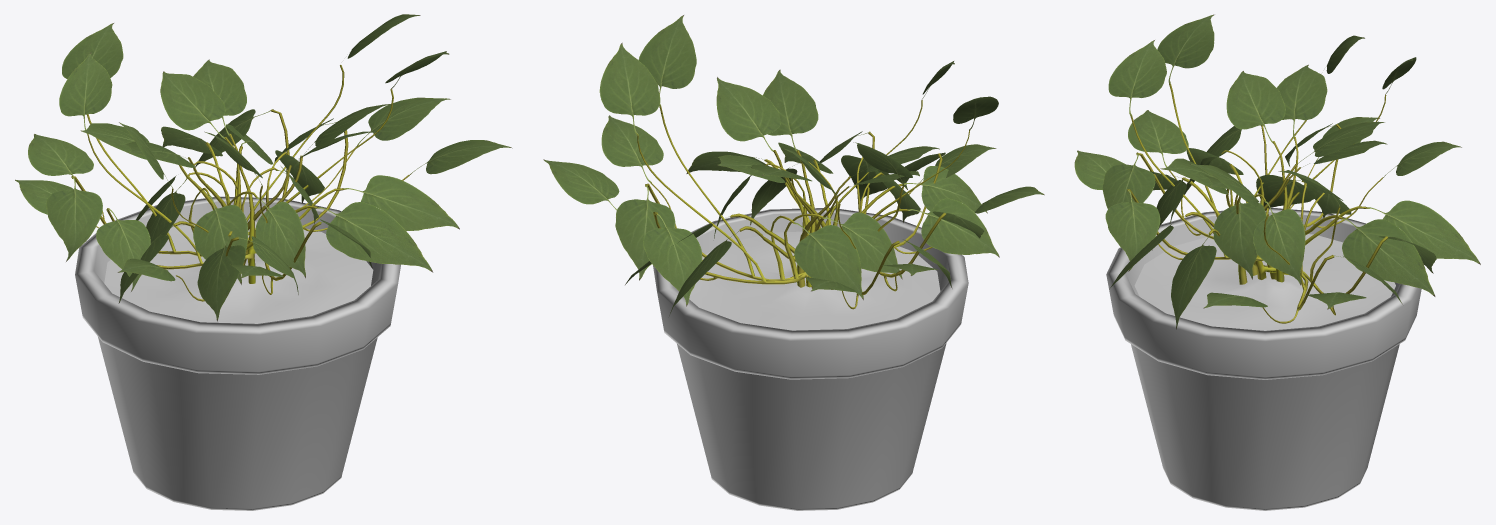
File: table_plant.fbx
3 views of the same model, side by side, from view 1: azimuth 30°, elevation 25°; view 2: azimuth 150°, elevation 25°; view 3: azimuth 270°, elevation 25° (orthographic). The views are drawn at different scales.
Parts seen in each view (by area): view 1: pCylinder1, pCube5, pCube3, pCylinder2, pCube1, pCube6, pCube2, pCube4; view 2: pCylinder1, pCube6, pCube1, pCylinder2, pCube3, pCube4, pCube2, pCube5; view 3: pCylinder1, pCube2, pCube4, pCylinder2, pCube3, pCube6, pCube5, pCube1.
Part boxes in pixels (x1,y1,x2,y2): pCylinder1: (75, 196, 400, 510); pCube5: (28, 23, 433, 284); pCube3: (15, 52, 459, 291); pCylinder2: (104, 221, 373, 323); pCube1: (146, 14, 450, 321); pCube6: (118, 51, 512, 303); pCube2: (125, 126, 372, 294); pCube4: (80, 122, 318, 301); pCylinder1: (653, 207, 968, 510); pCube6: (601, 15, 999, 300); pCube1: (543, 42, 987, 306); pCylinder2: (689, 231, 940, 330); pCube3: (686, 142, 983, 291); pCube4: (625, 96, 1044, 288); pCube2: (669, 61, 996, 315); pCube5: (717, 142, 952, 309); pCylinder1: (1106, 207, 1421, 510); pCube2: (1074, 40, 1480, 285); pCube4: (1102, 14, 1435, 296); pCylinder2: (1134, 234, 1395, 330); pCube3: (1152, 35, 1384, 329); pCube6: (1160, 148, 1402, 323); pCube5: (1110, 57, 1461, 287); pCube1: (1150, 170, 1436, 315).
Size of the model in its own units: 80.86 by 72.04 by 69.08.
